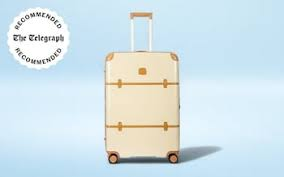suitcase: (100, 11, 184, 166)
